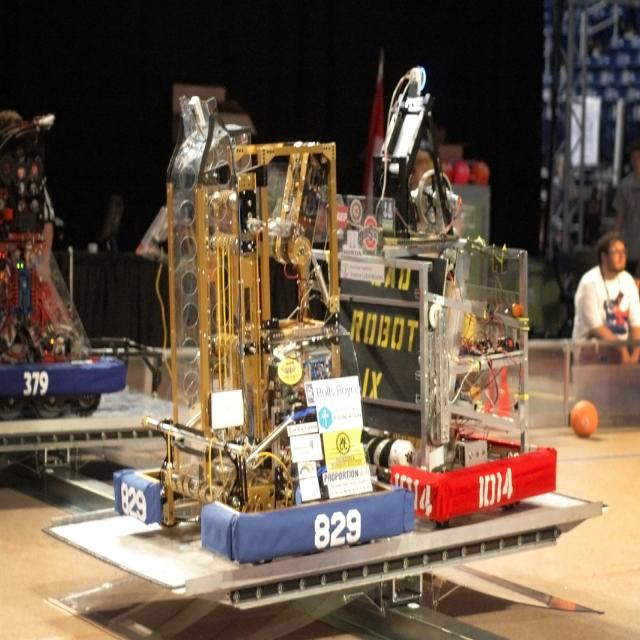robot: (110, 93, 417, 566), (317, 59, 559, 526), (0, 109, 127, 415)
